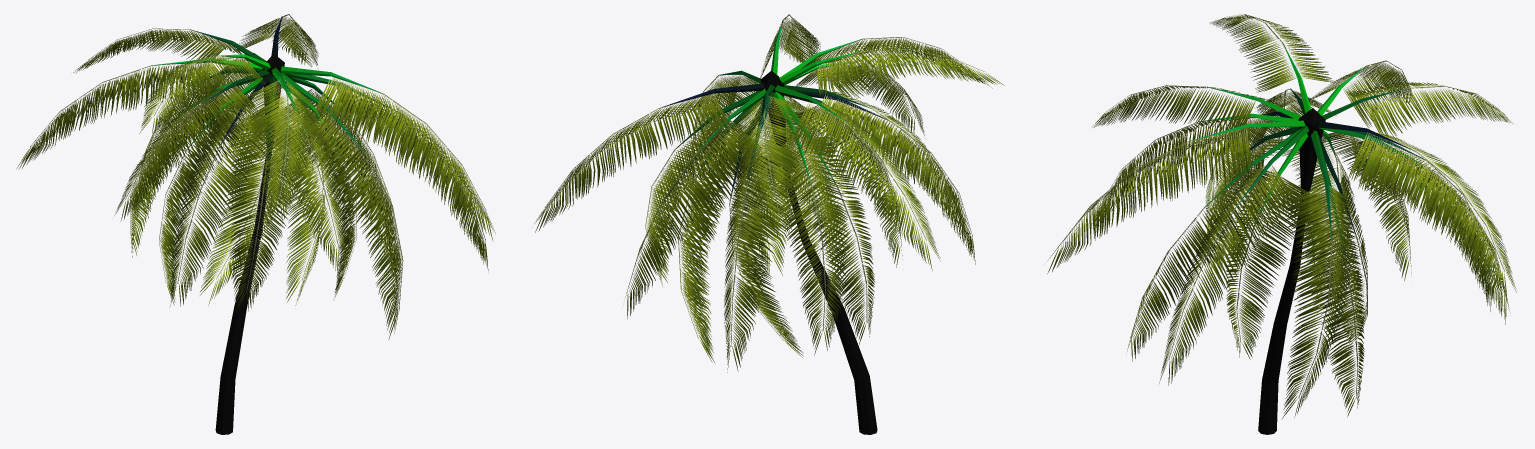
Rendered from CoconutPalm.fbx.
3 views of the same model, side by side, from view 1: azimuth 30°, elevation 25°; view 2: azimuth 150°, elevation 25°; view 3: azimuth 270°, elevation 25° (orthographic). The views are drawn at different scales.
Visible parts, largest first — view 1: Tree_1, Tree_0; view 2: Tree_1, Tree_0; view 3: Tree_1, Tree_0.
Part boxes in pixels (left/top/right/bottom): Tree_1: left=16, top=14, right=495, bottom=339; Tree_0: left=153, top=17, right=392, bottom=434; Tree_1: left=534, top=14, right=1004, bottom=372; Tree_0: left=662, top=21, right=886, bottom=434; Tree_1: left=1047, top=14, right=1516, bottom=419; Tree_0: left=1189, top=44, right=1424, bottom=434.
Size of the model in its own units: 277 by 276 by 310.
1 material, 1 textured.
